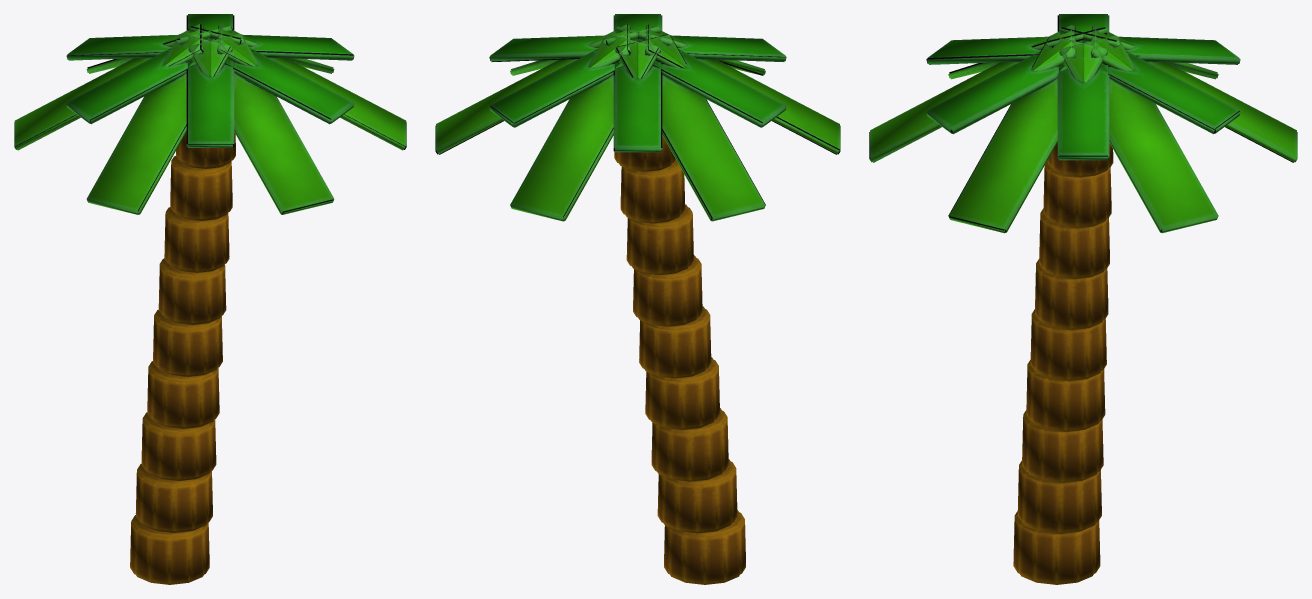
Rendered from PalmTree.fbx.
The picture shows the model from 3 angles, left to right: view 1: azimuth 30°, elevation 25°; view 2: azimuth 150°, elevation 25°; view 3: azimuth 270°, elevation 25°; orthographic projection. The views are drawn at different scales.
Visible parts, largest first — view 1: PalmTree; view 2: PalmTree; view 3: PalmTree.
Boxes of the visible parts, x1,y1,x2,y2 form: PalmTree: [14, 14, 406, 584]; PalmTree: [435, 14, 840, 584]; PalmTree: [869, 14, 1297, 584].
Size of the model in its own units: 2.73 by 4.17 by 2.9.
